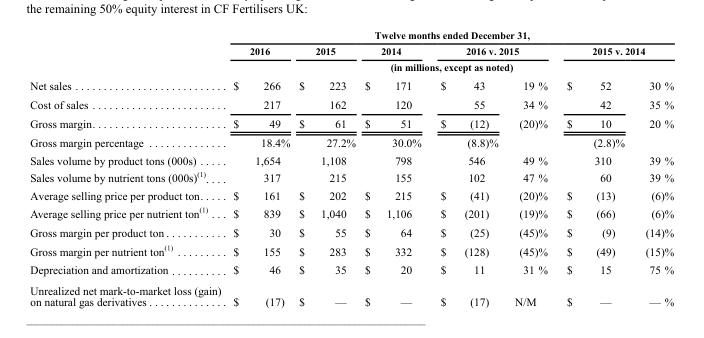table: (29, 28, 673, 307)
table column: (29, 28, 226, 307), (556, 28, 634, 307), (430, 28, 505, 307), (359, 28, 430, 307), (226, 28, 293, 307), (293, 28, 359, 307), (505, 28, 556, 307), (634, 28, 673, 307)
table column header: (29, 28, 673, 94)
table row: (29, 279, 673, 307), (29, 240, 673, 260), (29, 75, 673, 94), (29, 94, 673, 113), (29, 113, 673, 132), (29, 167, 673, 186), (29, 203, 673, 222), (29, 260, 673, 279), (29, 132, 673, 150), (29, 222, 673, 240), (29, 58, 673, 75), (29, 150, 673, 167), (29, 186, 673, 203), (29, 42, 673, 58), (29, 28, 673, 42)
table spanning cell: (29, 28, 226, 94), (226, 58, 673, 75), (226, 28, 673, 42), (430, 42, 556, 58), (556, 42, 673, 58)
